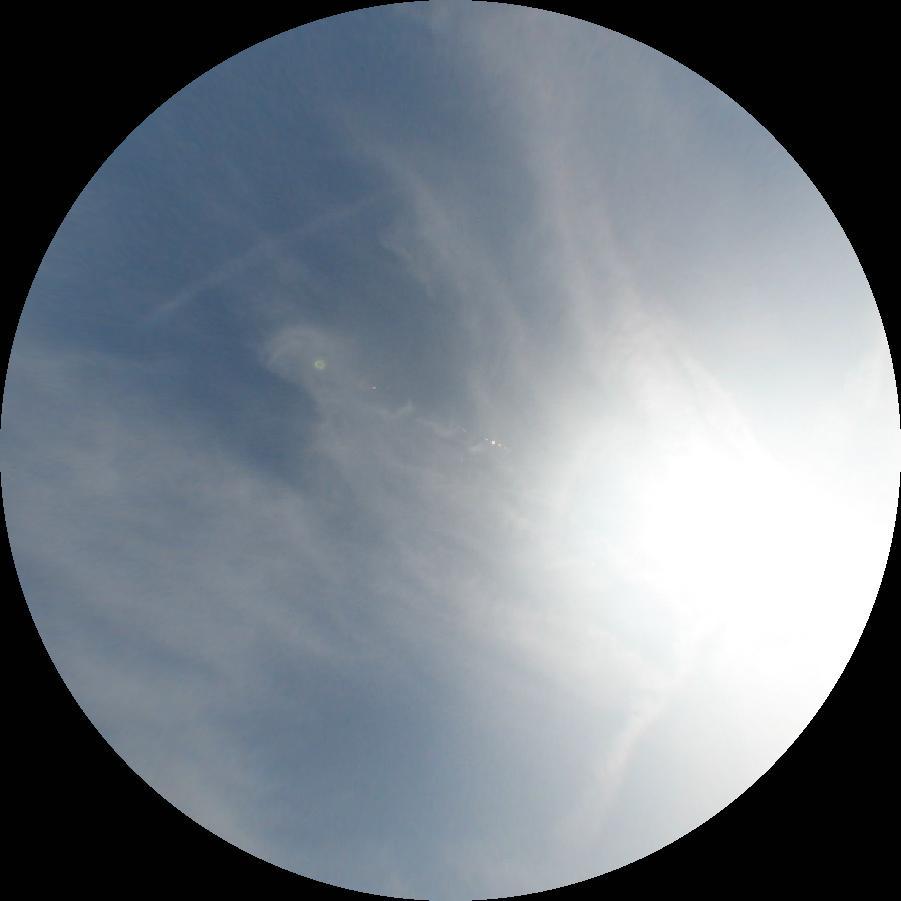contrail veryold: (257, 329, 619, 639), (520, 89, 708, 452), (139, 188, 394, 333), (533, 670, 701, 888), (683, 350, 758, 439)
sun: (594, 436, 796, 658)
